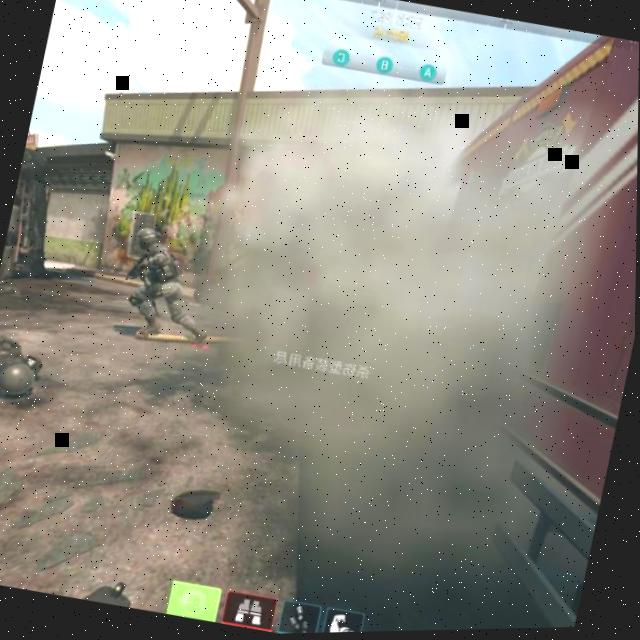MW2_body: (116, 226, 227, 352)
